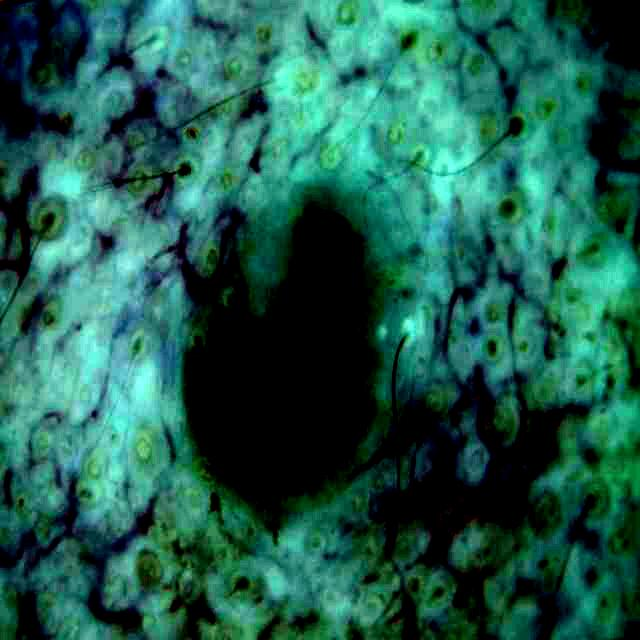BCC: (178, 183, 370, 498)
